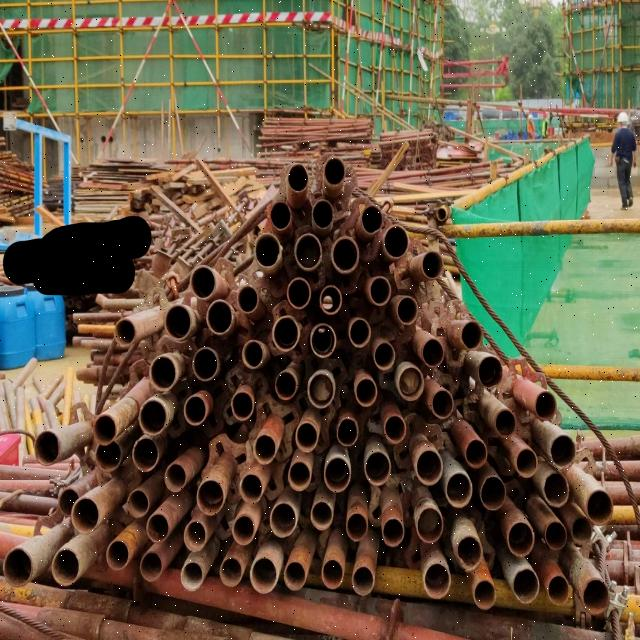pipe: (4, 546, 34, 587), (331, 235, 361, 272), (253, 233, 283, 269), (295, 232, 323, 270), (52, 548, 80, 586), (582, 578, 610, 616), (139, 399, 169, 434), (207, 298, 236, 334), (417, 506, 444, 544), (456, 536, 484, 572), (364, 450, 392, 486), (416, 450, 444, 486), (310, 322, 338, 358), (250, 556, 278, 592), (197, 479, 225, 515), (544, 470, 572, 506), (586, 488, 614, 524), (512, 568, 540, 604), (508, 520, 534, 558), (308, 372, 336, 407), (273, 315, 301, 350), (72, 497, 100, 532), (134, 436, 162, 471), (190, 264, 217, 300), (424, 562, 451, 598), (446, 471, 473, 507), (165, 303, 192, 339), (270, 502, 298, 536), (324, 457, 351, 492), (550, 434, 576, 470), (150, 356, 177, 390), (398, 365, 424, 400), (384, 224, 410, 258), (192, 346, 218, 380), (34, 430, 60, 464), (479, 356, 504, 390), (481, 475, 506, 509), (96, 438, 122, 470), (384, 411, 408, 445), (473, 578, 498, 610), (431, 388, 455, 420), (288, 459, 312, 491), (184, 518, 208, 550), (106, 538, 130, 570), (140, 550, 164, 582), (287, 277, 311, 308), (93, 414, 117, 445), (220, 556, 243, 588), (465, 438, 489, 468), (254, 433, 278, 463), (242, 338, 266, 368), (184, 394, 208, 424), (534, 390, 558, 420), (164, 462, 187, 493), (312, 198, 334, 230), (370, 274, 392, 306), (349, 316, 371, 348), (233, 512, 255, 544), (181, 559, 203, 591), (422, 338, 446, 367), (311, 499, 334, 529), (284, 560, 307, 590), (240, 472, 263, 502), (275, 370, 298, 400), (231, 390, 254, 420), (397, 295, 419, 326), (374, 340, 396, 371), (516, 448, 538, 479), (146, 513, 170, 541), (270, 198, 292, 228), (422, 250, 444, 280), (462, 320, 484, 350), (352, 566, 374, 596), (322, 559, 344, 589), (320, 284, 342, 314), (296, 422, 318, 452), (237, 284, 259, 314), (128, 488, 150, 518), (114, 317, 136, 347), (546, 521, 568, 551), (548, 576, 570, 606), (288, 163, 310, 192), (356, 378, 378, 407), (323, 157, 345, 185), (362, 205, 384, 233), (494, 408, 516, 436), (382, 518, 404, 546), (346, 512, 368, 540), (59, 487, 79, 517), (338, 418, 358, 446), (572, 516, 592, 544), (436, 207, 446, 220)
